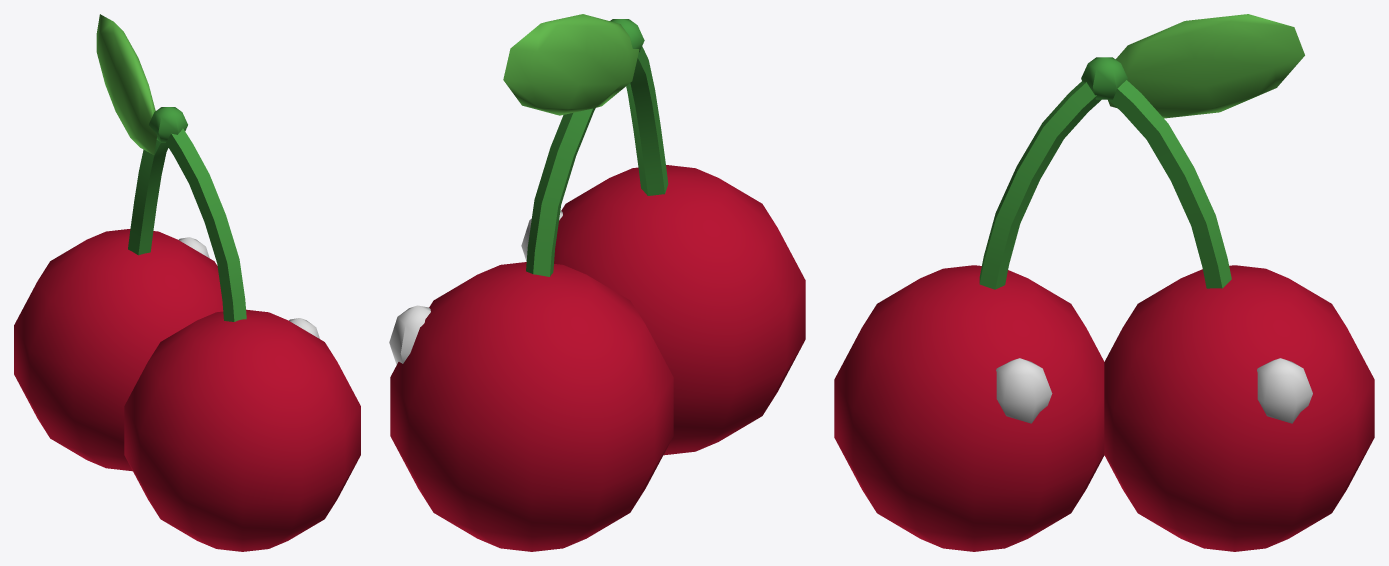
File: cherry.glb
The picture shows the model from 3 angles, left to right: view 1: azimuth 30°, elevation 25°; view 2: azimuth 150°, elevation 25°; view 3: azimuth 270°, elevation 25°; orthographic projection. The views are drawn at different scales.
Visible parts, largest first — view 1: cherry; view 2: cherry; view 3: cherry.
Part boxes in pixels (<box>): cherry: <box>14,14,360,551</box>; cherry: <box>389,14,805,551</box>; cherry: <box>834,14,1374,551</box>.
Bounding box in the file's own units: 0.2145 × 0.4375 × 0.4145.
